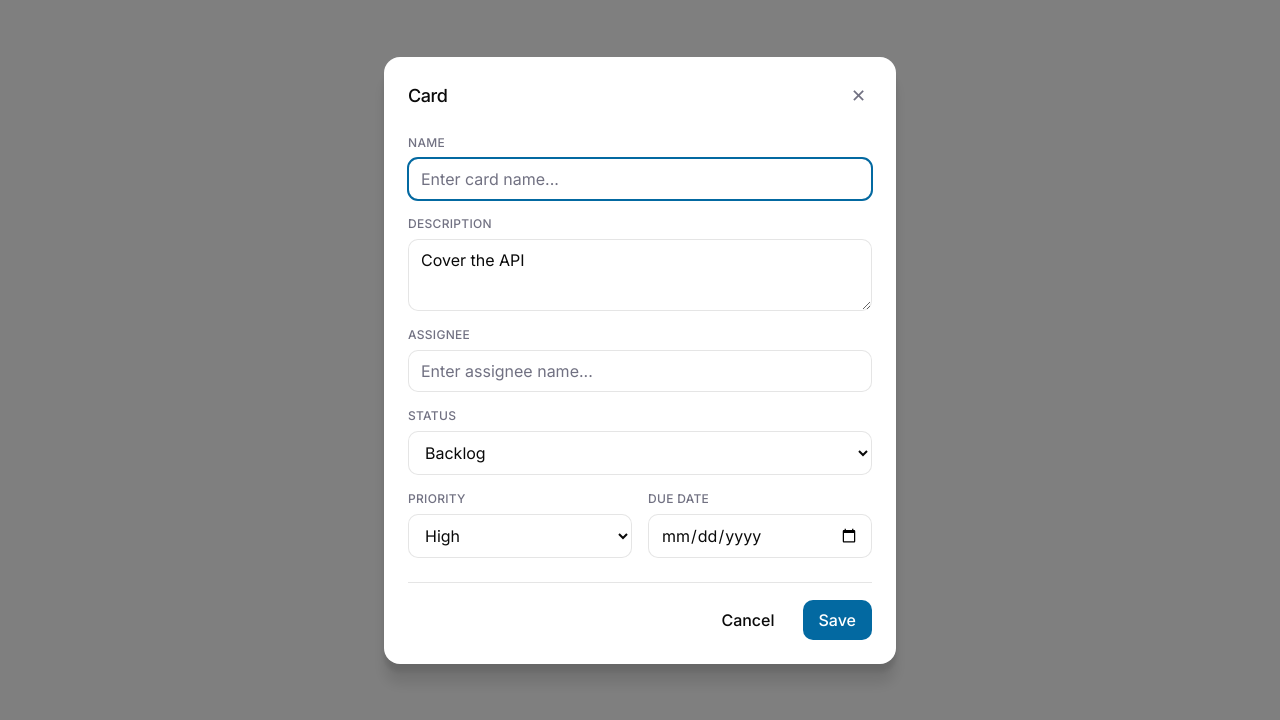
CardModal validation › blocks save and shows errors when required fields are empty
Click the button "Save": (837, 620) 802,600 -> 872,640
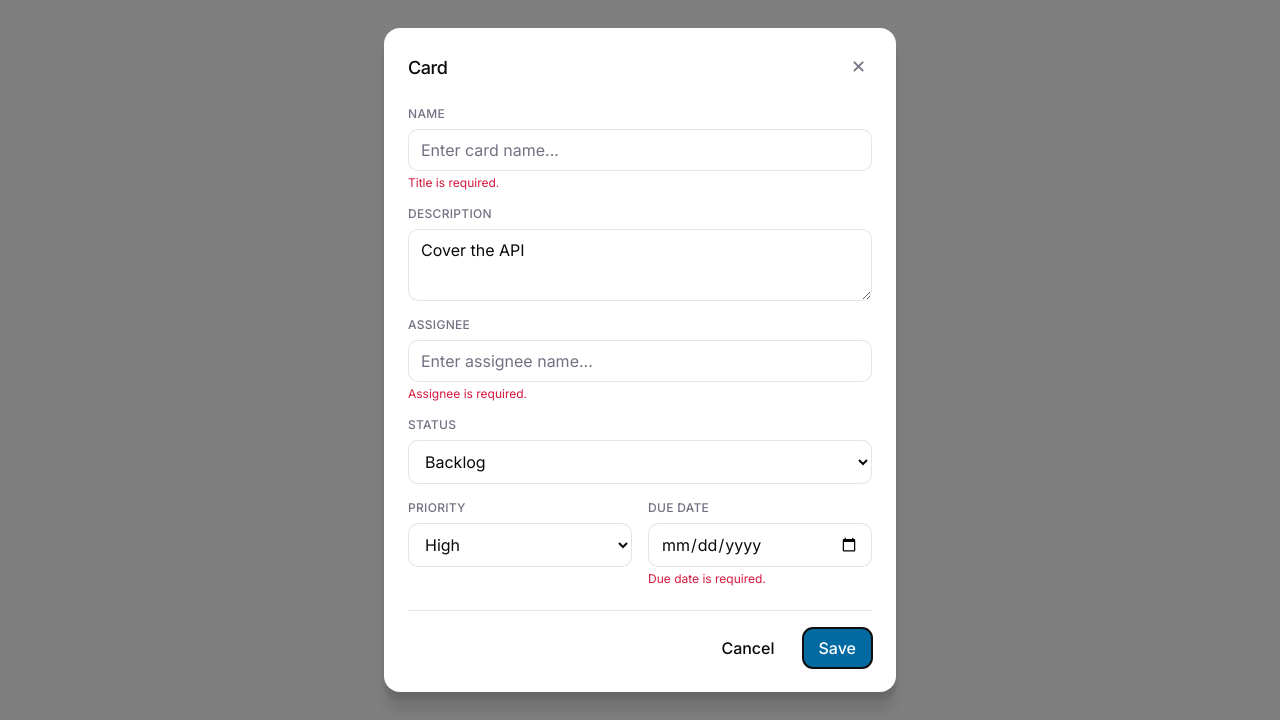
Expected: the text "Title is required." is shown, 408,175 -> 499,190
Expected: the text "Assignee is required." is shown, 408,386 -> 527,401
Expected: the text "Due date is required." is shown, 648,571 -> 766,586
